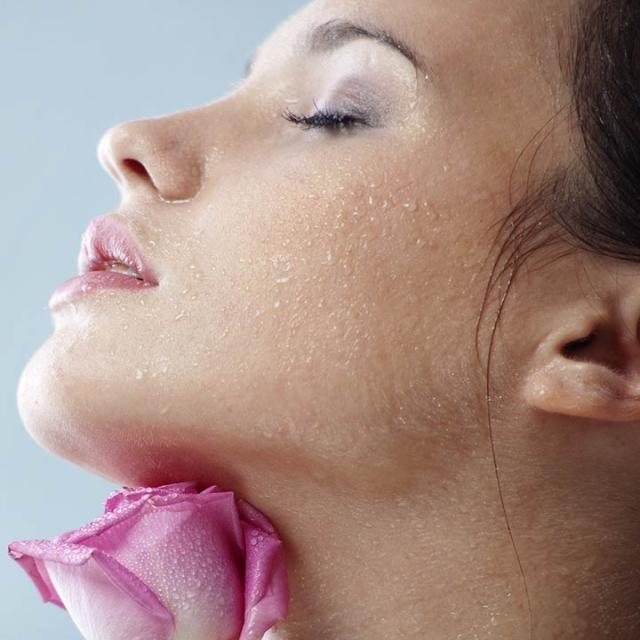Dry-Skin: (218, 145, 496, 446)
